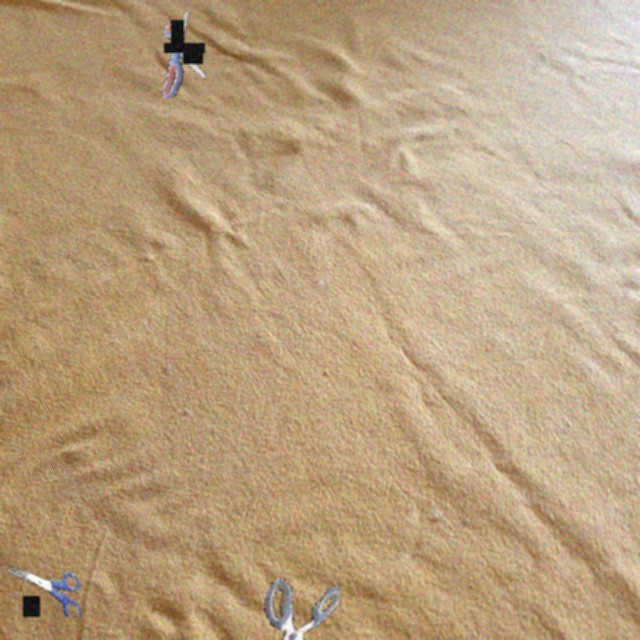scissors: (264, 579, 339, 640), (161, 11, 205, 98), (9, 565, 81, 617)
